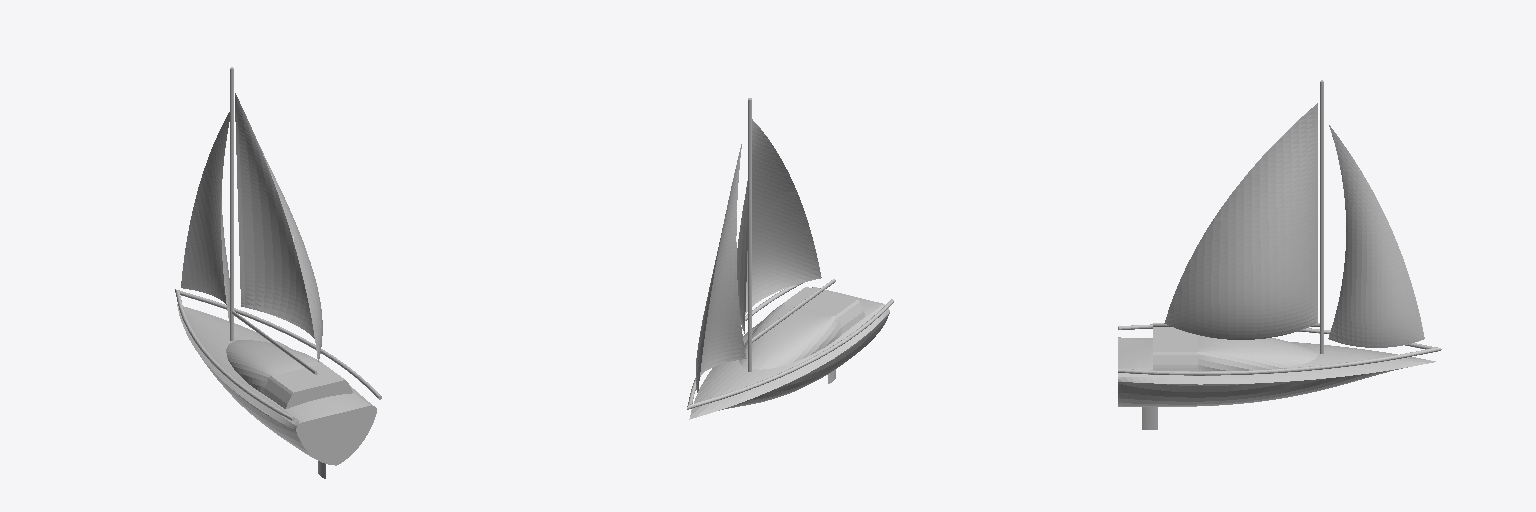
File: boat.obj
3 renders of one model, left to right at view 1: azimuth 30°, elevation 25°; view 2: azimuth 150°, elevation 25°; view 3: azimuth 270°, elevation 25°, orthographic.
Visible parts, largest first — view 1: boat; view 2: boat; view 3: boat.
Part boxes in pixels (bbox=[...]): boat: bbox=[175, 67, 381, 478]; boat: bbox=[687, 98, 893, 419]; boat: bbox=[1118, 80, 1441, 429].
Bounding box in the file's own units: 1.37 × 4.43 × 3.76.